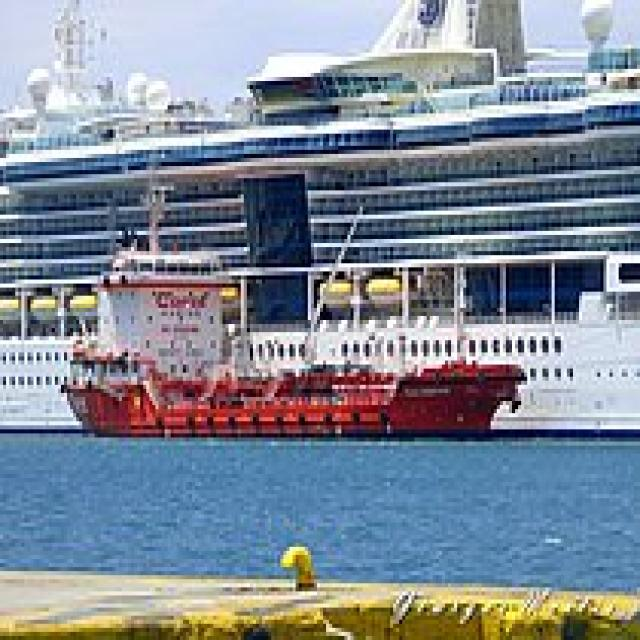Tanker: (55, 182, 524, 438)
